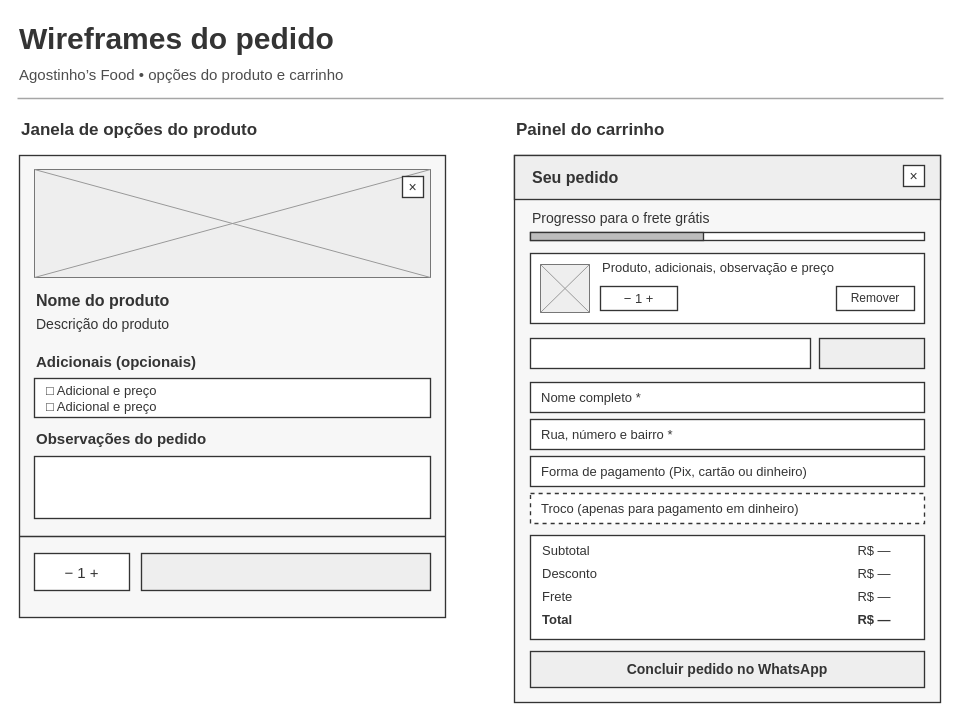
The diagram is 963 pixels wide and 720 high, and some of its shapes have lost their labels. The shapes that lost their labels are listed below. From the top down, each one's centre as x and y in pixels, then its label:
At point 670,353: "Código do cupom".
At point 871,353: "Aplicar".
At point 232,487: "Campo de texto".
At point 285,571: "Adicionar ao pedido | R$ 0,00".
